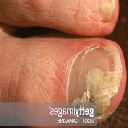Nail Fungal Infection: (76, 70, 117, 117)
